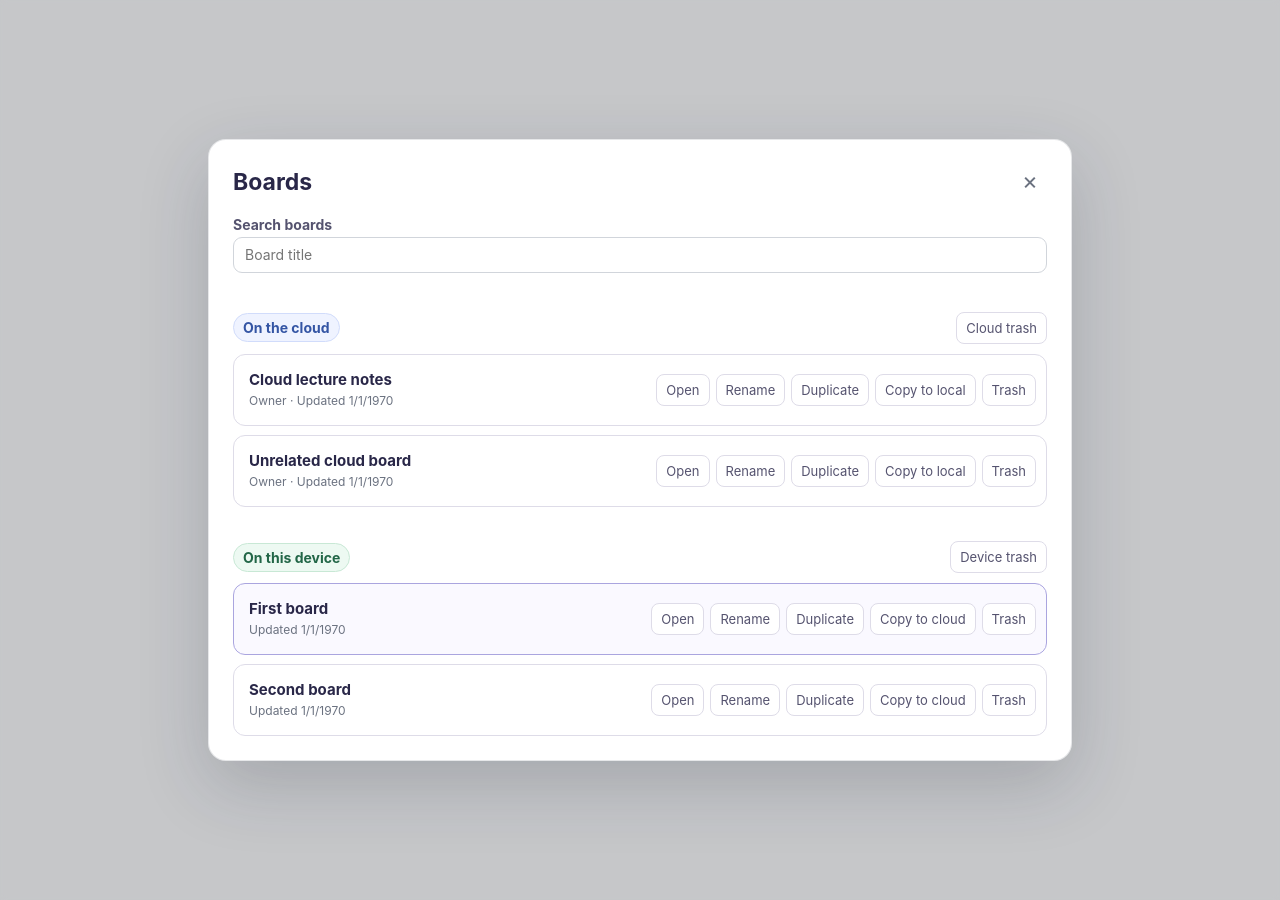
Test: LocalBoardLibrary › filters both sections from one query
Type "cloud lecture" into the search field labelled "Search boards" at (640, 255), box [233,237,1047,273]
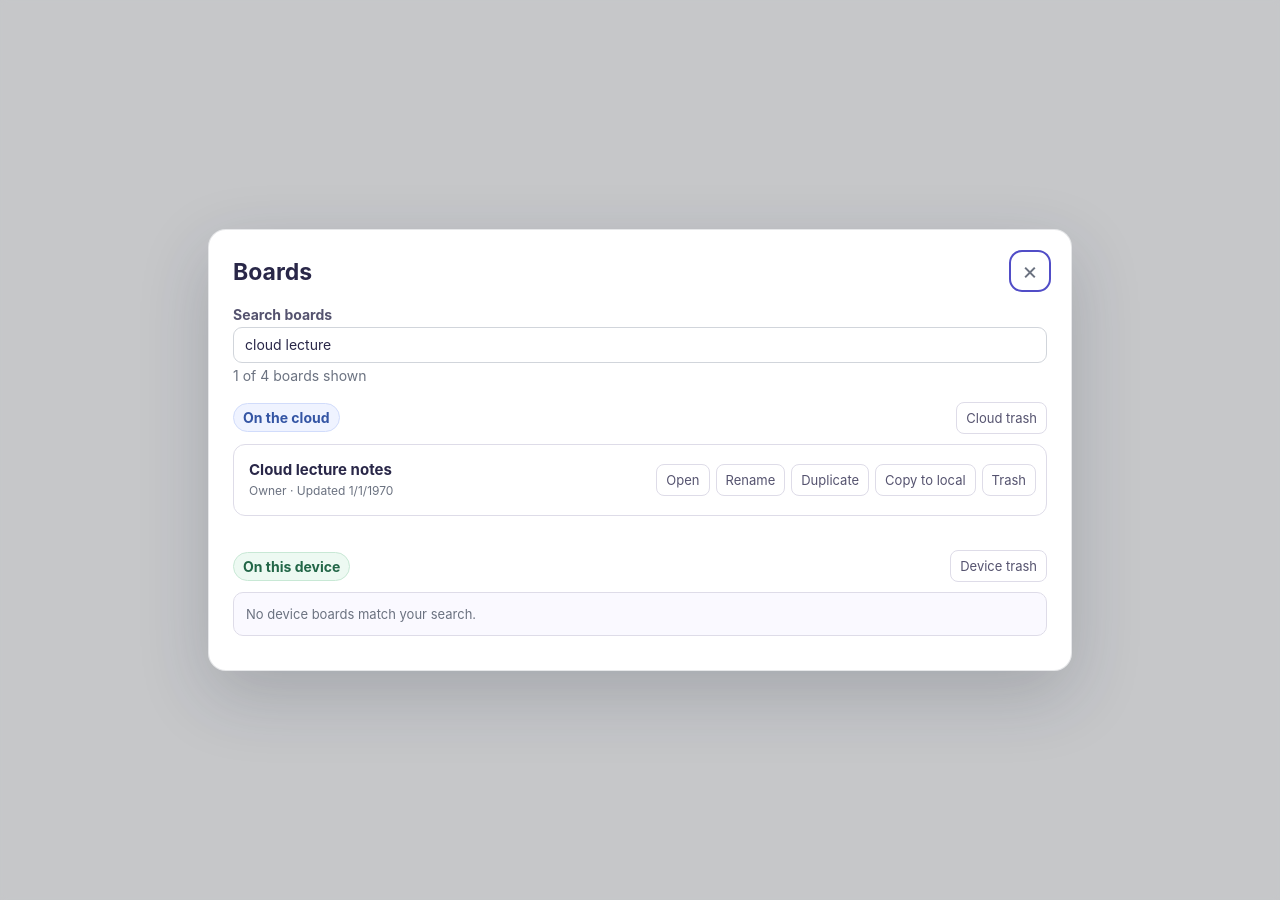
Check: the number of buttons named "Open cloud board" is 1, box [244,455,644,505]
Check: the text "No device boards match your search." is shown, box [233,592,1047,636]
Check: the text "1 of 4 boards shown" is shown, box [233,367,367,384]
